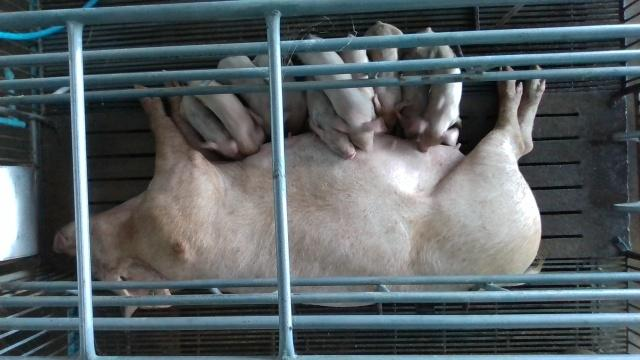piglet: (296, 32, 387, 151), (413, 27, 463, 151), (190, 80, 263, 155), (218, 57, 293, 126), (365, 21, 413, 127), (180, 95, 238, 157), (306, 91, 357, 159), (343, 33, 371, 98), (398, 86, 427, 137)
sow-sleep-lactate: (52, 64, 548, 317)
